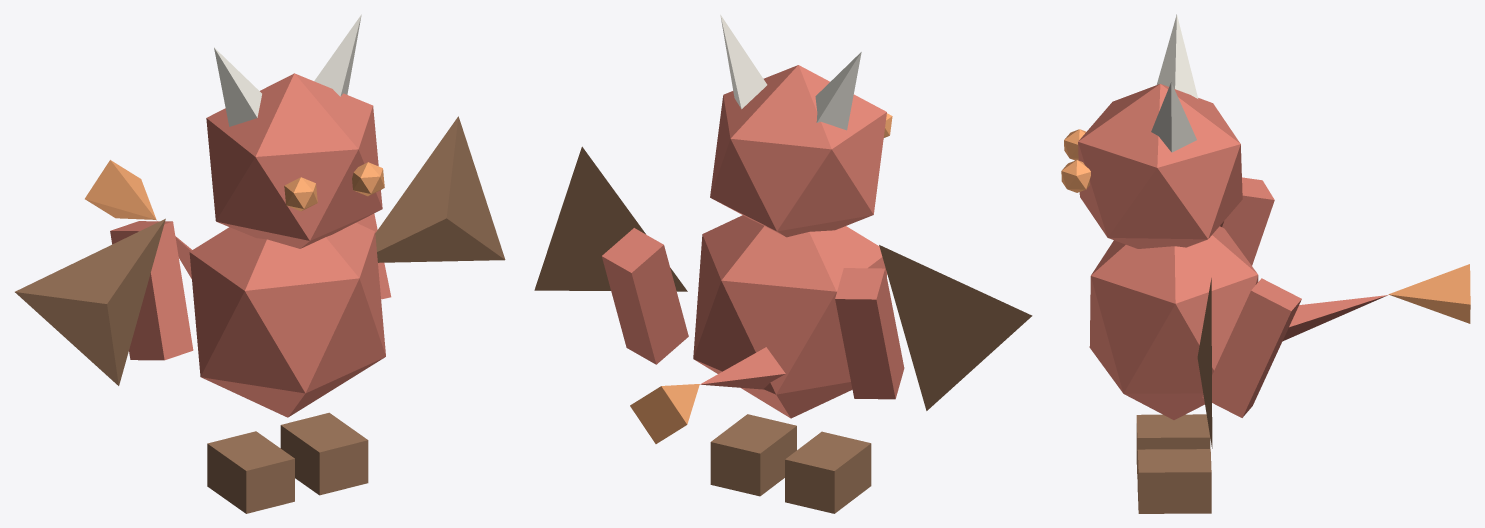
File: npcpose_imp_idle_07.glb
3 renders of one model, left to right at view 1: azimuth 30°, elevation 25°; view 2: azimuth 150°, elevation 25°; view 3: azimuth 270°, elevation 25°, orthographic. The views are drawn at different scales.
Visible parts, largest first — view 1: npcpose; view 2: npcpose; view 3: npcpose.
Part boxes in pixels (x1,y1,x2,y2): npcpose: [15, 14, 505, 513]; npcpose: [534, 14, 1032, 513]; npcpose: [1061, 14, 1470, 513].
Size of the model in its own units: 1.21 by 1.06 by 0.8974.
